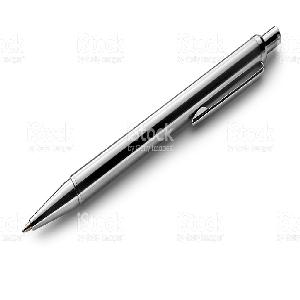pen: (20, 25, 285, 241)
